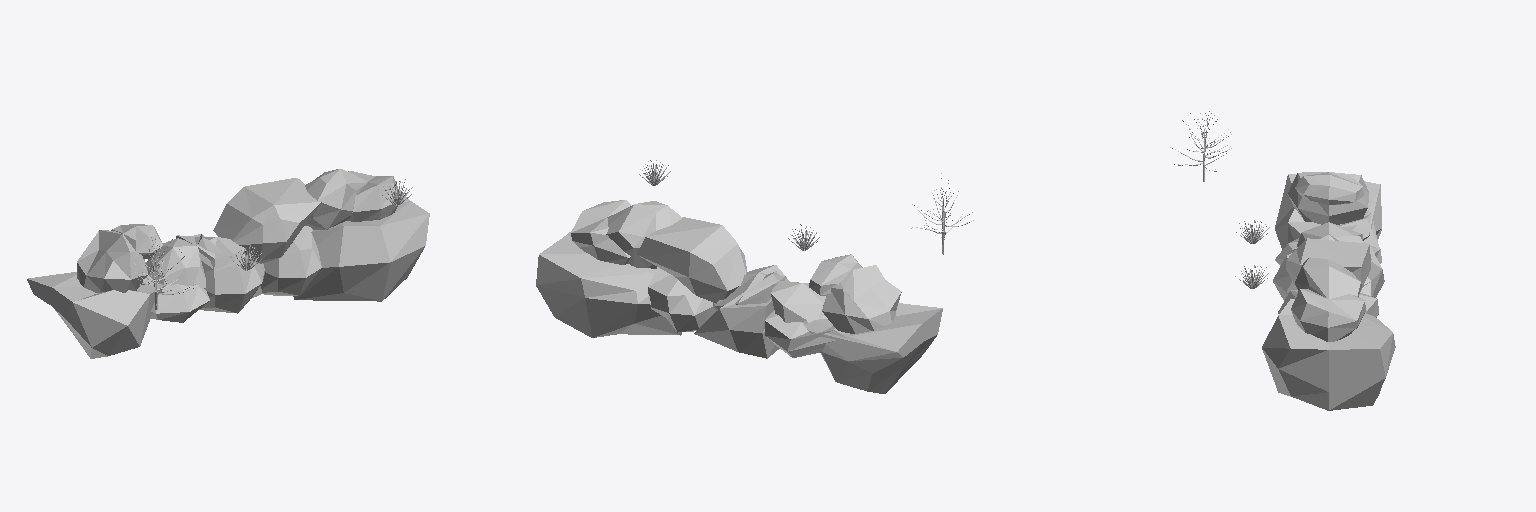
Rendered from Land1.obj.
3 renders of one model, left to right at view 1: azimuth 30°, elevation 25°; view 2: azimuth 150°, elevation 25°; view 3: azimuth 270°, elevation 25°, orthographic.
Parts seen in each view (by area): view 1: group1 pCube3, group1 pCube15, pCube8 group1, group1 pCube14, group1 pCube9, group1 pCube6, group1 pCube5, group1 pCube11, group1 pCube4, group1 pCube12, group1 pCube10, group1 pCube13; view 2: group1 pCube3, group1 pCube15, pCube8 group1, group1 pCube14, group1 pCube9, group1 pCube5, group1 pCube6, group1 pCube4, group1 pCube12, group1 pCube11, group1 pCube10, group1 pCube13; view 3: group1 pCube3, group1 pCube4, pCube8 group1, group1 pCube15, group1 pCube5, group1 pCube14, group1 pCube13, group1 pCube9, group1 pCube12, group1 pCube11.
Boxes of the visible parts, x1,y1,x2,y2 form: group1 pCube3: [293, 194, 429, 301]; group1 pCube15: [27, 272, 165, 358]; pCube8 group1: [213, 178, 321, 263]; group1 pCube14: [77, 230, 147, 292]; group1 pCube9: [191, 234, 264, 313]; group1 pCube6: [261, 226, 321, 295]; group1 pCube5: [305, 169, 367, 229]; group1 pCube11: [146, 238, 205, 288]; group1 pCube4: [346, 171, 399, 221]; group1 pCube12: [143, 262, 209, 322]; group1 pCube10: [176, 235, 247, 277]; group1 pCube13: [111, 224, 162, 259]; group1 pCube3: [536, 232, 681, 337]; group1 pCube15: [803, 303, 942, 393]; pCube8 group1: [636, 217, 746, 303]; group1 pCube14: [822, 265, 901, 333]; group1 pCube9: [694, 271, 785, 358]; group1 pCube5: [606, 201, 682, 268]; group1 pCube6: [648, 267, 712, 332]; group1 pCube4: [571, 200, 630, 264]; group1 pCube12: [765, 310, 846, 357]; group1 pCube11: [771, 281, 825, 323]; group1 pCube10: [715, 265, 789, 309]; group1 pCube13: [809, 254, 862, 295]; group1 pCube3: [1262, 299, 1395, 410]; group1 pCube4: [1291, 289, 1365, 341]; pCube8 group1: [1286, 238, 1370, 291]; group1 pCube15: [1275, 174, 1381, 249]; group1 pCube5: [1295, 257, 1361, 298]; group1 pCube14: [1288, 172, 1368, 224]; group1 pCube13: [1295, 172, 1363, 204]; group1 pCube9: [1273, 234, 1384, 300]; group1 pCube12: [1275, 213, 1381, 265]; group1 pCube11: [1297, 222, 1362, 246].
Size of the model in its own units: 5.99 by 2.92 by 3.35.